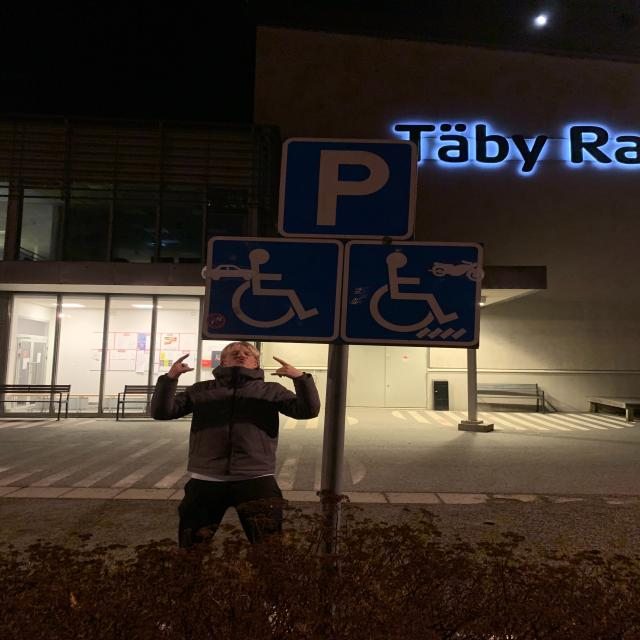psign: (278, 135, 412, 237)
